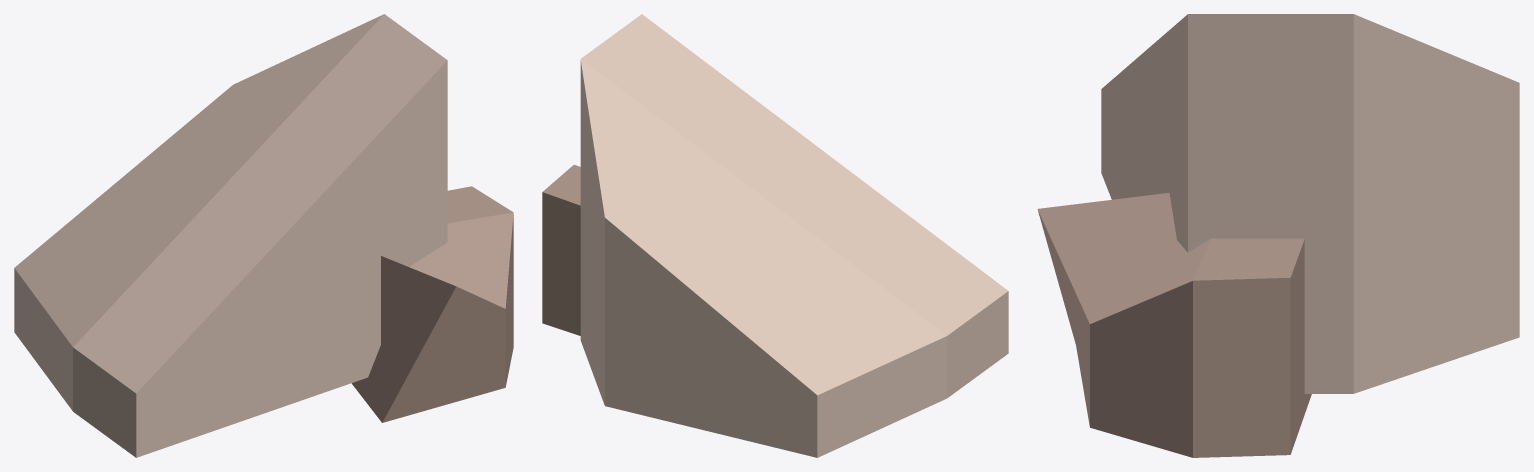
Rendered from rock-type5-04-sand.glb.
3 views of the same model, side by side, from view 1: azimuth 30°, elevation 25°; view 2: azimuth 150°, elevation 25°; view 3: azimuth 270°, elevation 25° (orthographic). The views are drawn at different scales.
Visible parts, largest first — view 1: Rock_Type5_04_mesh; view 2: Rock_Type5_04_mesh; view 3: Rock_Type5_04_mesh.
Part boxes in pixels (x1,y1,x2,y2): Rock_Type5_04_mesh: (14, 14, 513, 457); Rock_Type5_04_mesh: (542, 14, 1008, 457); Rock_Type5_04_mesh: (1037, 14, 1519, 457).
Bounding box in the file's own units: 1.18 × 0.8351 × 0.911.
Materials: 1 (1 with a texture image).
